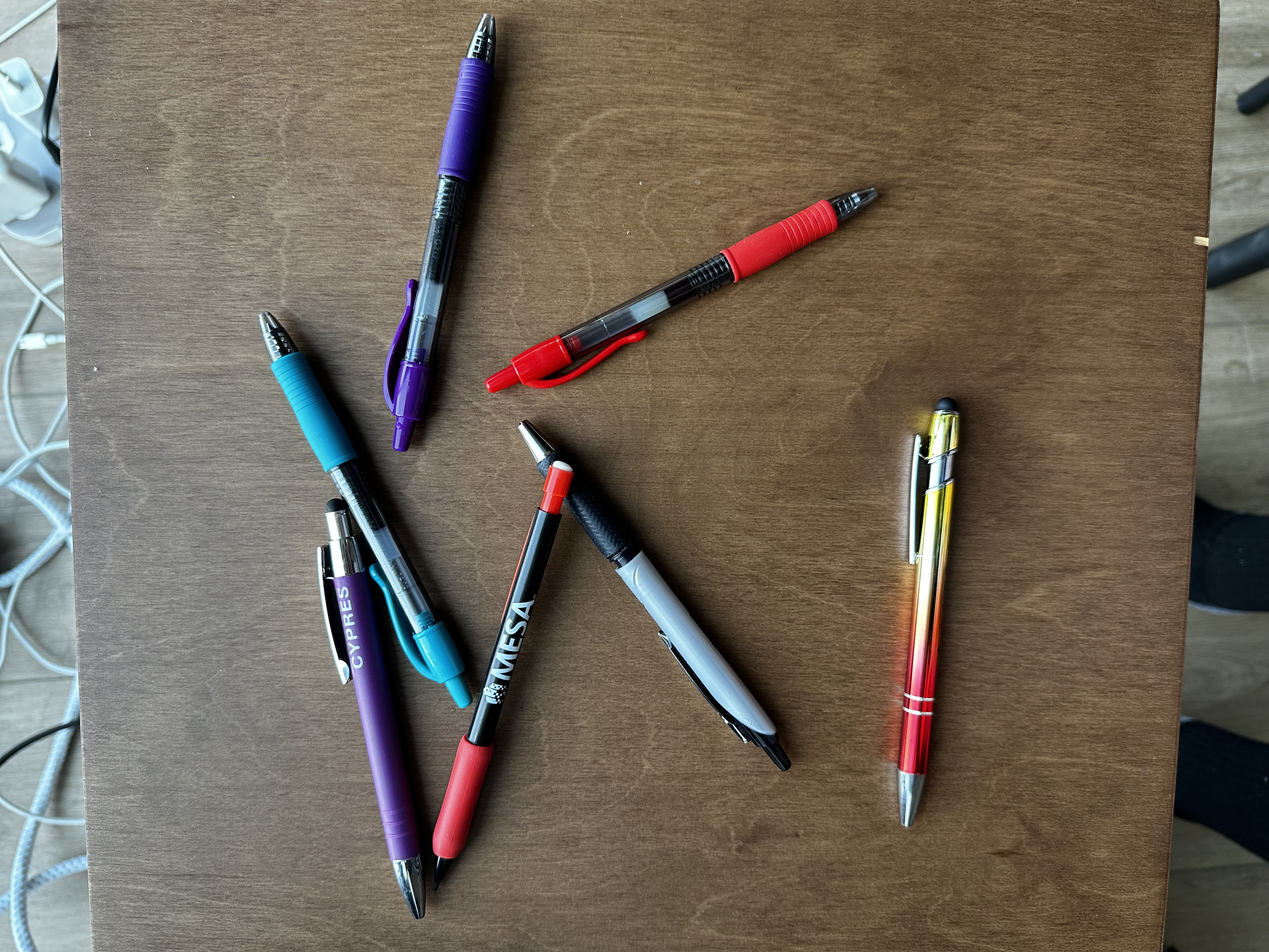Blue Pen: (256, 308, 469, 707)
Cypres Pen Purple: (312, 494, 427, 916)
MESA Multicolored pen: (895, 397, 961, 827)
Purple Pen: (386, 8, 498, 448)
Red Mechanical Pencil: (426, 452, 568, 901)
Red Pen: (484, 179, 880, 395)
Silver Pen: (513, 414, 788, 764)
